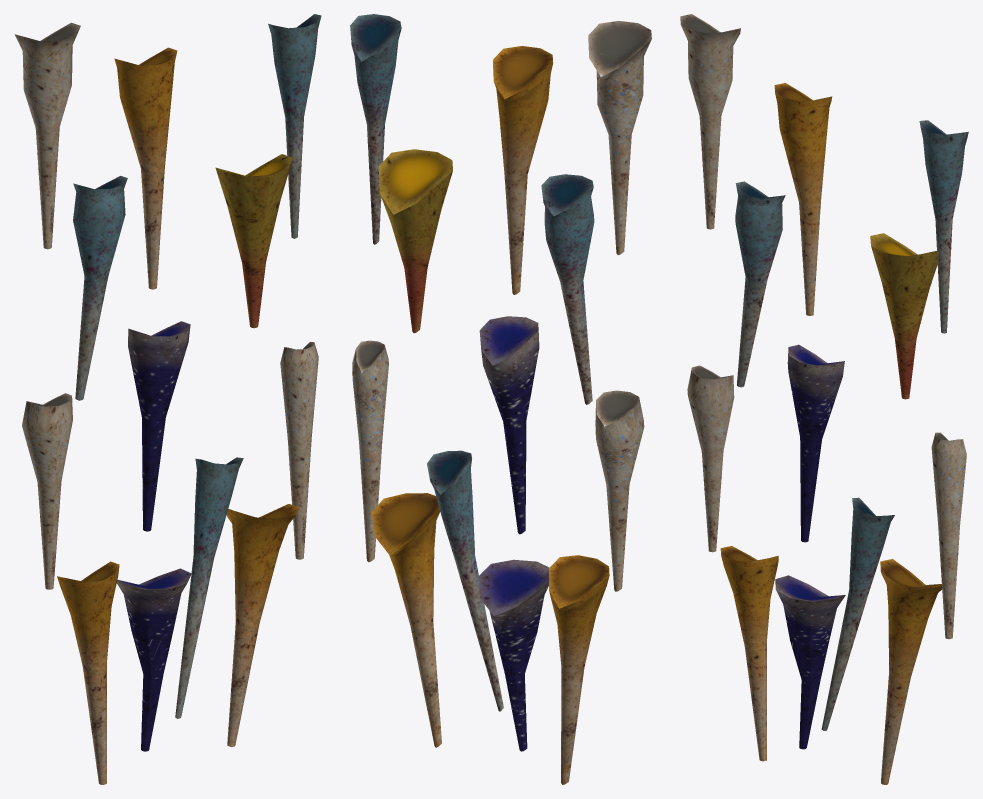
File: ScrollDecorFish03.fbx
3 renders of one model, left to right at view 1: azimuth 30°, elevation 25°; view 2: azimuth 150°, elevation 25°; view 3: azimuth 330°, elevation 25°, orthographic. The views are drawn at different scales.
Parts seen in each view (by area): view 1: ScrollDecorFish03; view 2: ScrollDecorFish03; view 3: ScrollDecorFish03.
Boxes of the visible parts, <box> form: ScrollDecorFish03: <box>14,14,321,784</box>; ScrollDecorFish03: <box>350,14,651,784</box>; ScrollDecorFish03: <box>680,14,968,784</box>.
Bounding box in the file's own units: 74.76 × 185 × 17.28.
